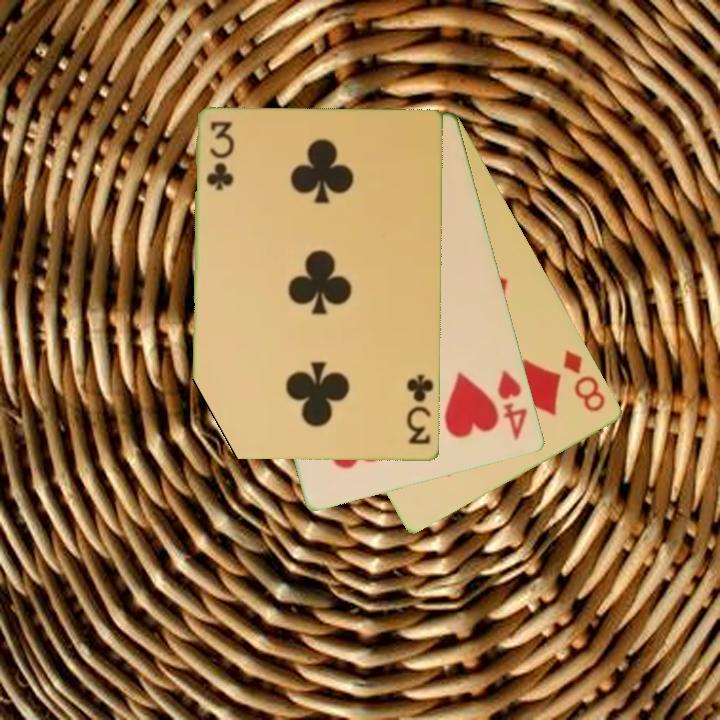3c: (404, 371, 437, 448), (203, 118, 234, 194)
4h: (494, 367, 531, 443)
8d: (560, 347, 609, 415)
